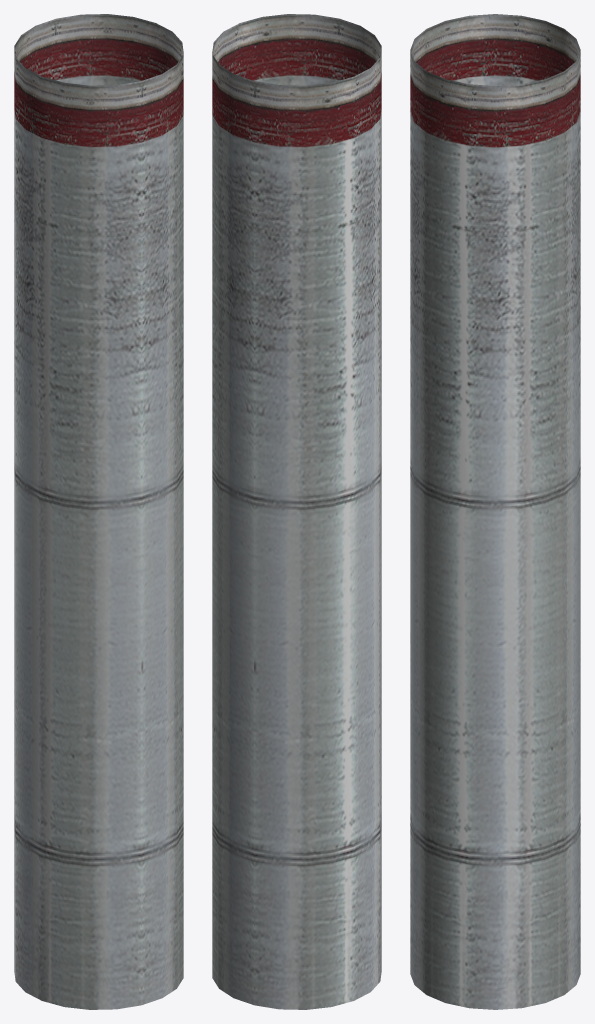
Rendered from Pipe_B_0'5mts_04.fbx.
3 renders of one model, left to right at view 1: azimuth 30°, elevation 25°; view 2: azimuth 150°, elevation 25°; view 3: azimuth 270°, elevation 25°, orthographic.
Parts seen in each view (by area): view 1: Pipe_B_0'5mts_04; view 2: Pipe_B_0'5mts_04; view 3: Pipe_B_0'5mts_04.
Boxes of the visible parts, x1,y1,x2,y2 form: Pipe_B_0'5mts_04: (14, 14, 183, 1009); Pipe_B_0'5mts_04: (212, 14, 381, 1009); Pipe_B_0'5mts_04: (410, 14, 580, 1009).
Size of the model in its own units: 50.14 by 300 by 50.14.
1 material, 1 textured.
